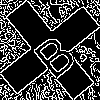B: (25, 25, 80, 81)
